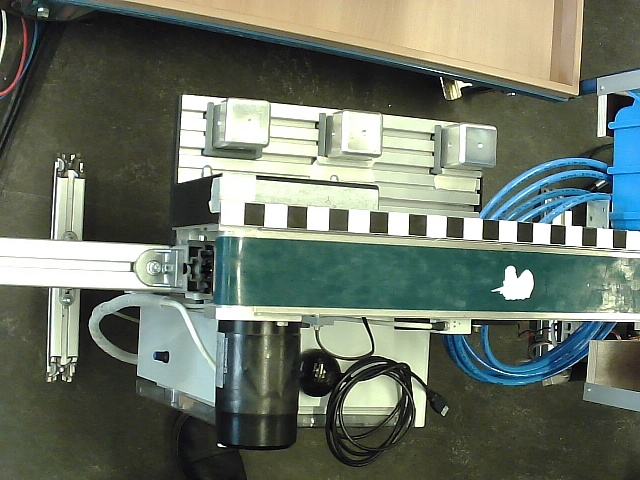unicorn: (490, 265, 535, 301)
